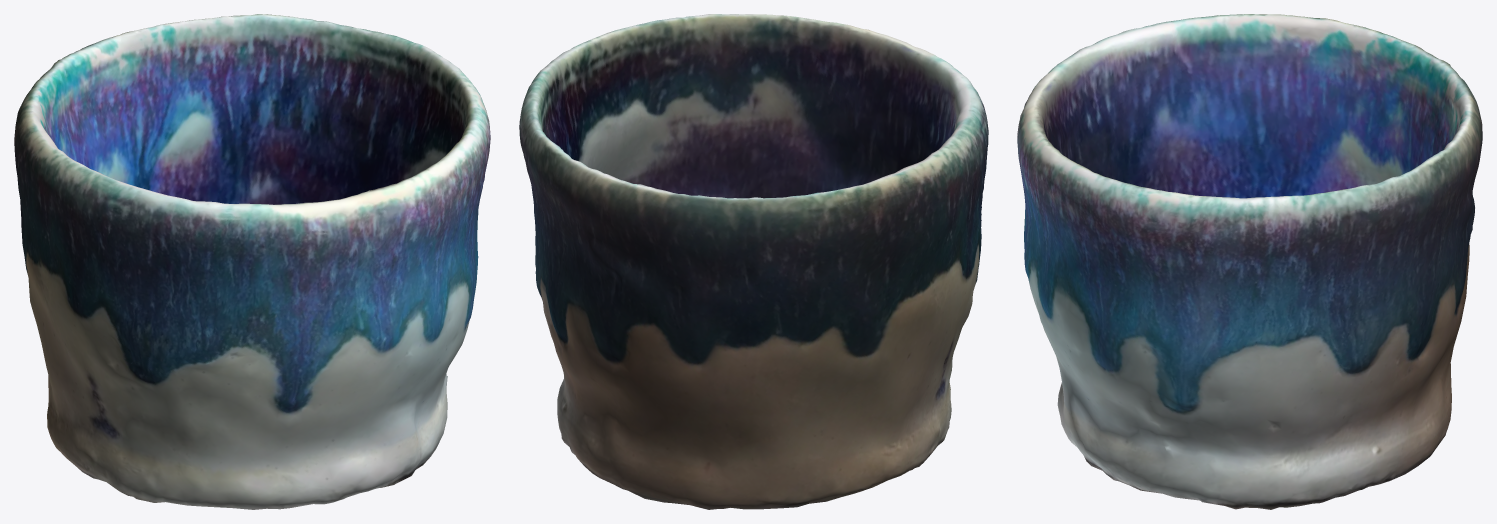
The model's file is big-brother.glb.
3 renders of one model, left to right at view 1: azimuth 30°, elevation 25°; view 2: azimuth 150°, elevation 25°; view 3: azimuth 270°, elevation 25°, orthographic.
Bounding box in the file's own units: 0.1035 × 0.0809 × 0.1028.
Materials: 1 (1 with a texture image).
